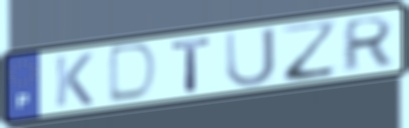D: (105, 41, 161, 106)
K: (52, 51, 96, 109)
R: (339, 14, 397, 75)
T: (169, 35, 215, 94)
U: (222, 25, 279, 90)
Z: (279, 17, 340, 84)
